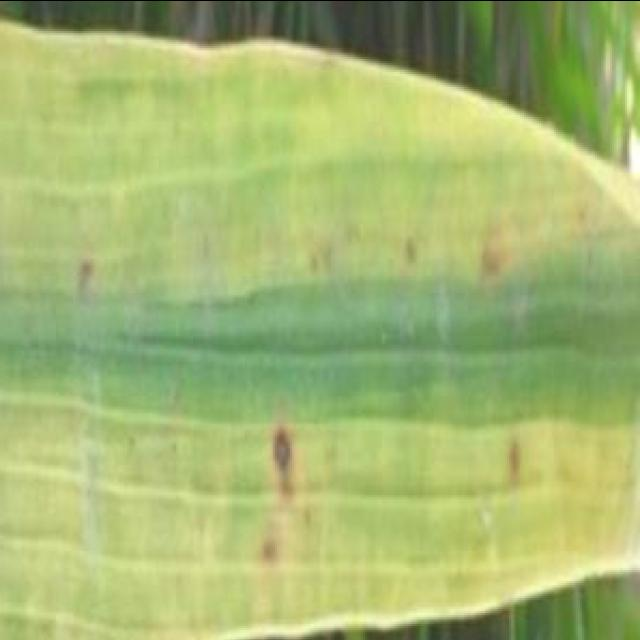Brown_Spot: (66, 234, 108, 309), (501, 423, 536, 483), (266, 421, 304, 475), (475, 232, 509, 284), (258, 530, 288, 564), (402, 226, 428, 264), (277, 468, 305, 502), (317, 436, 343, 472), (244, 282, 268, 316), (340, 217, 368, 245), (170, 110, 192, 144), (184, 604, 204, 632), (202, 228, 217, 264), (170, 562, 190, 588), (301, 498, 318, 528), (126, 429, 142, 452), (204, 474, 219, 498), (576, 204, 590, 224), (170, 434, 182, 456), (312, 251, 322, 273)
